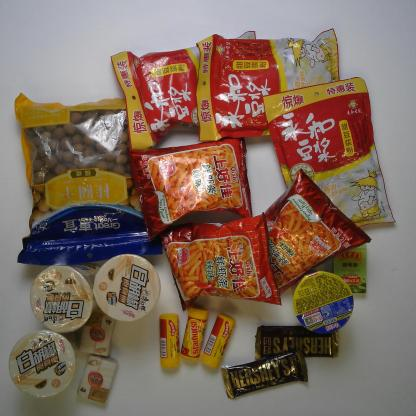Candy: (199, 313, 237, 369), (334, 241, 369, 295), (181, 304, 208, 362), (158, 311, 181, 371)
Chocolate: (222, 347, 310, 396), (254, 324, 339, 359)
Dried Food: (11, 89, 167, 267)
Instant Drink: (263, 76, 396, 232), (109, 31, 259, 153), (197, 32, 342, 139)
Instant Noodles: (26, 264, 93, 334), (11, 330, 78, 399), (95, 252, 161, 322), (294, 268, 353, 335)
Puffed Food: (236, 170, 373, 294), (125, 139, 255, 239), (157, 212, 281, 308)
Tissue: (79, 354, 117, 406), (80, 309, 116, 357)
